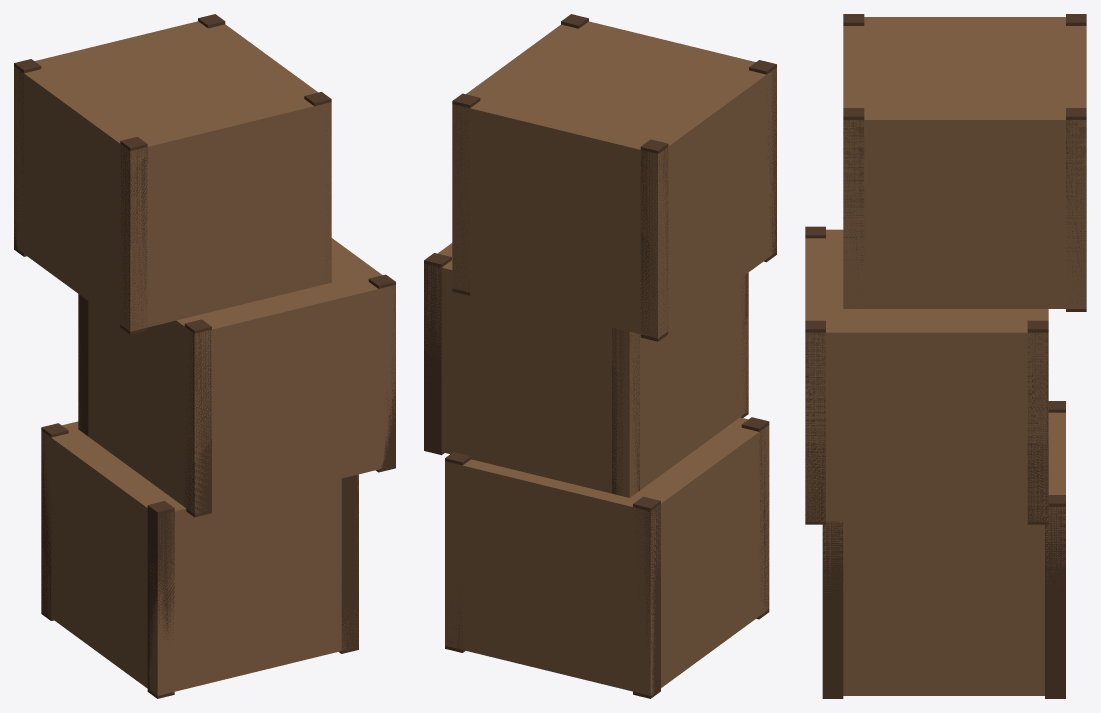
The model's file is SM_K_CrateStack.obj.
The picture shows the model from 3 angles, left to right: view 1: azimuth 30°, elevation 25°; view 2: azimuth 150°, elevation 25°; view 3: azimuth 270°, elevation 25°; orthographic projection. The views are drawn at different scales.
Parts seen in each view (by area): view 1: SM_K_CrateStack; view 2: SM_K_CrateStack; view 3: SM_K_CrateStack.
Part boxes in pixels (x1,y1,x2,y2): SM_K_CrateStack: (14,14,395,698); SM_K_CrateStack: (424,14,776,698); SM_K_CrateStack: (805,14,1086,698).
Size of the model in its own units: 0.86 by 1.82 by 0.81.
